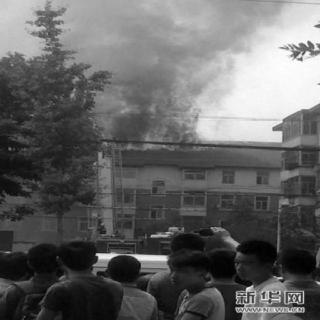other: (200, 191, 281, 247)
